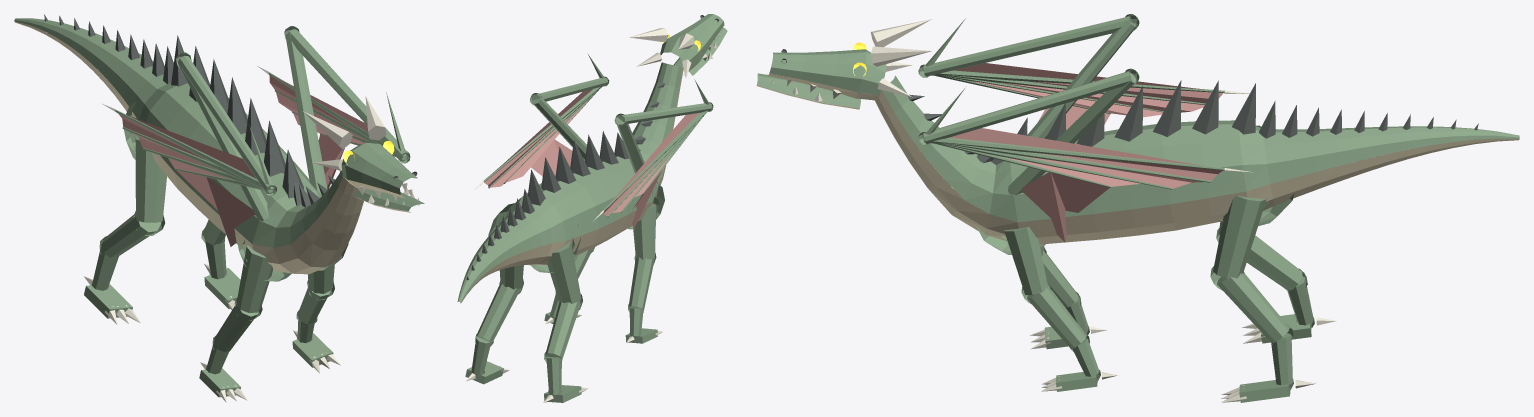
Rendered from dragons-and-wyverns-juvenile-dragon-standing-c98c50d2__36709.glb.
3 views of the same model, side by side, from view 1: azimuth 30°, elevation 25°; view 2: azimuth 150°, elevation 25°; view 3: azimuth 270°, elevation 25° (orthographic). The views are drawn at different scales.
Visible parts, largest first — view 1: juvenile-dragon-standing; view 2: juvenile-dragon-standing; view 3: juvenile-dragon-standing.
Boxes of the visible parts, x1=… form: juvenile-dragon-standing: x1=14, y1=14, x2=424, y2=402; juvenile-dragon-standing: x1=457, y1=14, x2=727, y2=402; juvenile-dragon-standing: x1=756, y1=14, x2=1519, y2=402.
Bounding box in the file's own units: 0.6087 × 1.22 × 2.49.
